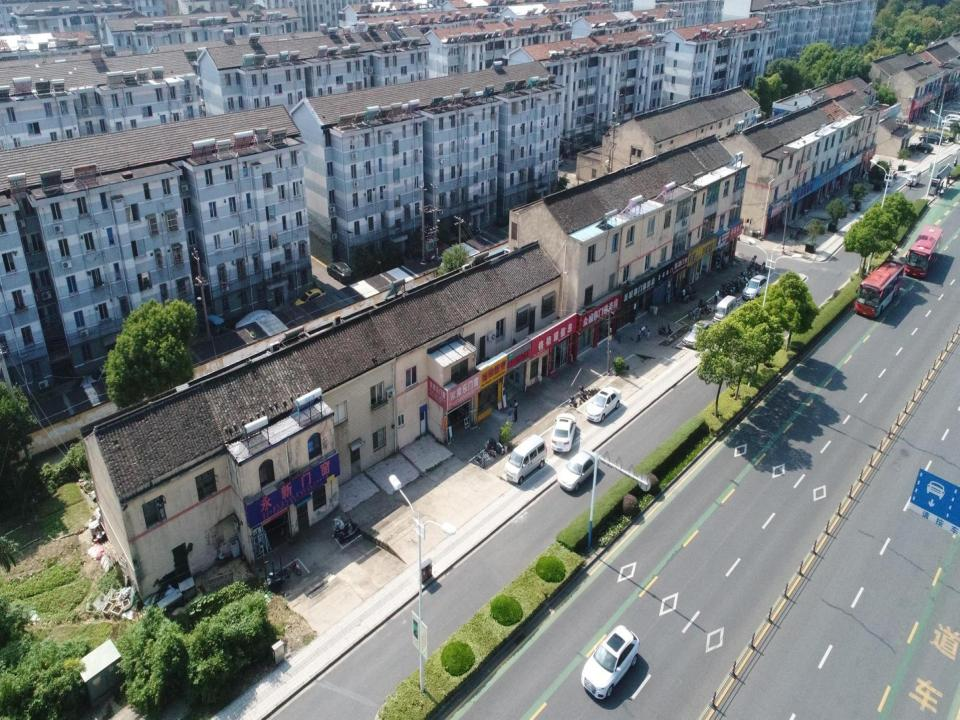bus: (854, 258, 908, 322), (904, 222, 945, 276)
car: (582, 623, 640, 700), (552, 454, 596, 493), (586, 384, 623, 424), (550, 407, 575, 455), (682, 315, 712, 347), (743, 273, 768, 299), (917, 132, 945, 143), (940, 110, 959, 126), (909, 142, 932, 154)
van: (506, 434, 546, 483), (714, 295, 740, 321), (908, 166, 922, 192)
